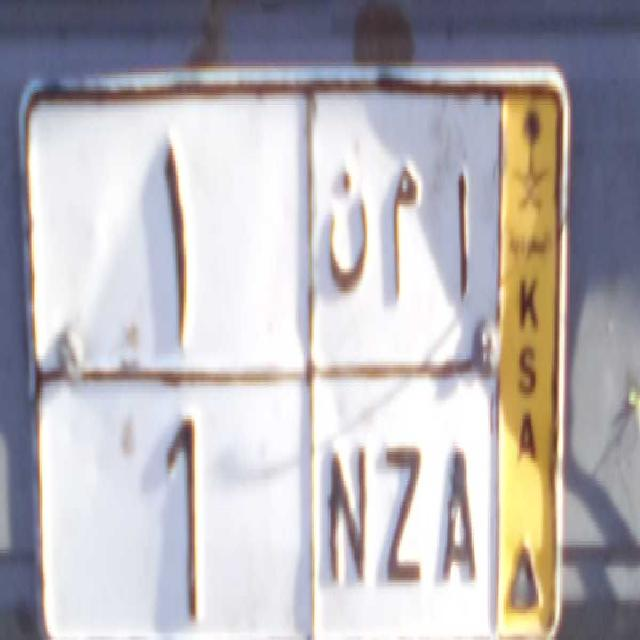license_plate: (104, 382, 490, 640)
